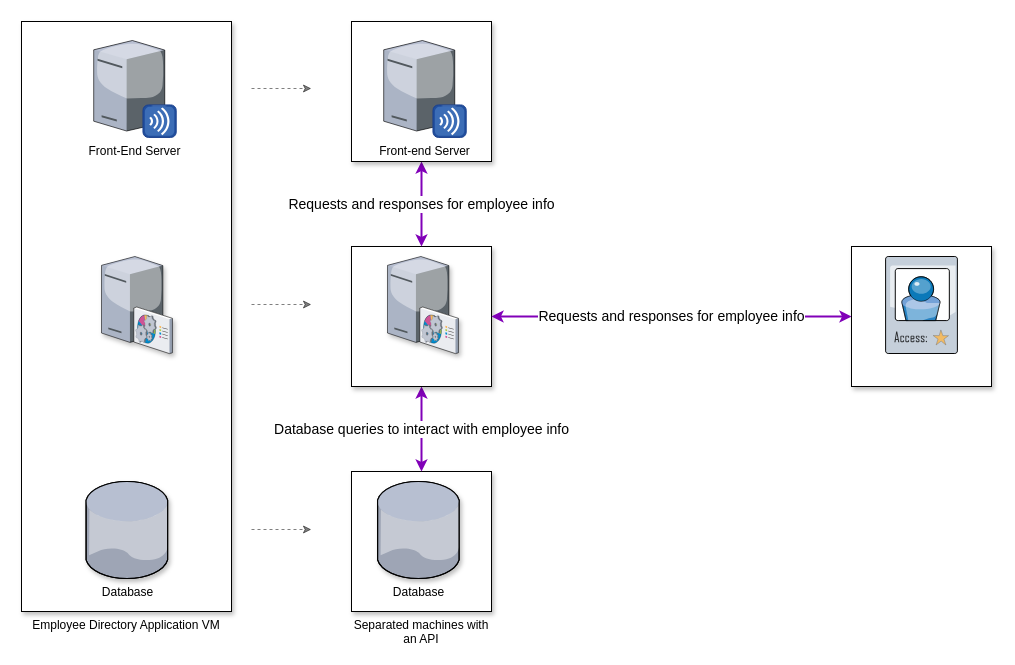
The diagram is 1015 pixels wide and 665 high, and some of its shapes have lost their labels. Each missing label, with the centre of its shape:
Back-end Server: (137,306)
Employee API: (423,306)
System Administrator: (921,304)
